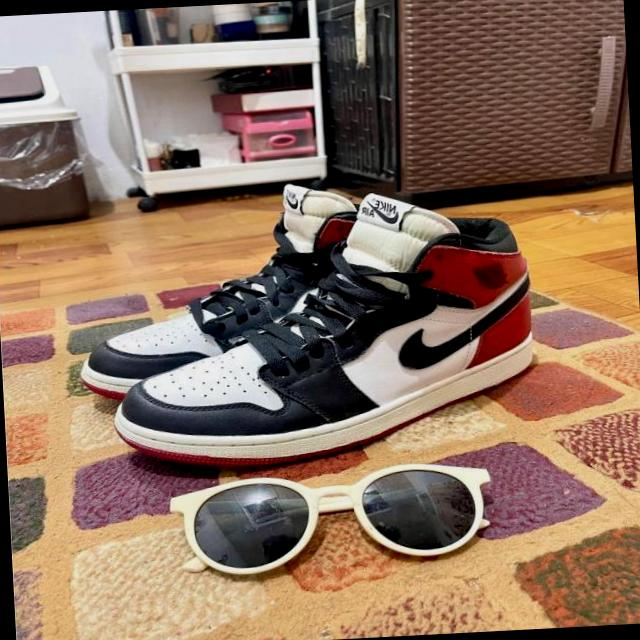nike_fake_jordan: (96, 184, 547, 474), (70, 180, 387, 405)
